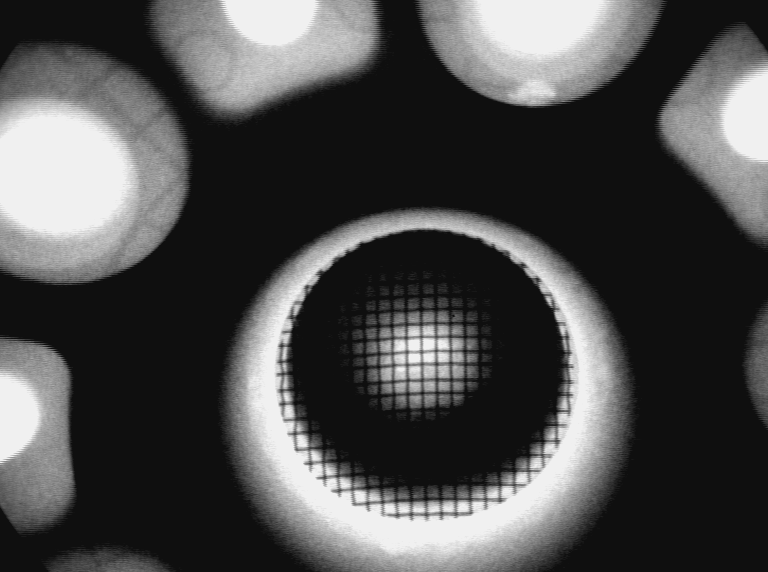defect: (507, 76, 557, 110)
